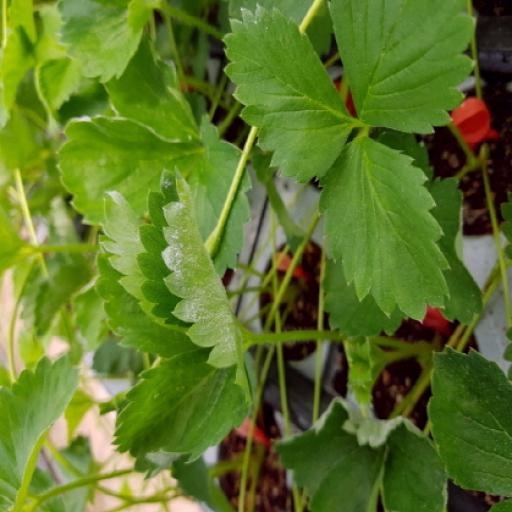Powdery Mildew Leaf: (269, 164, 375, 369)
